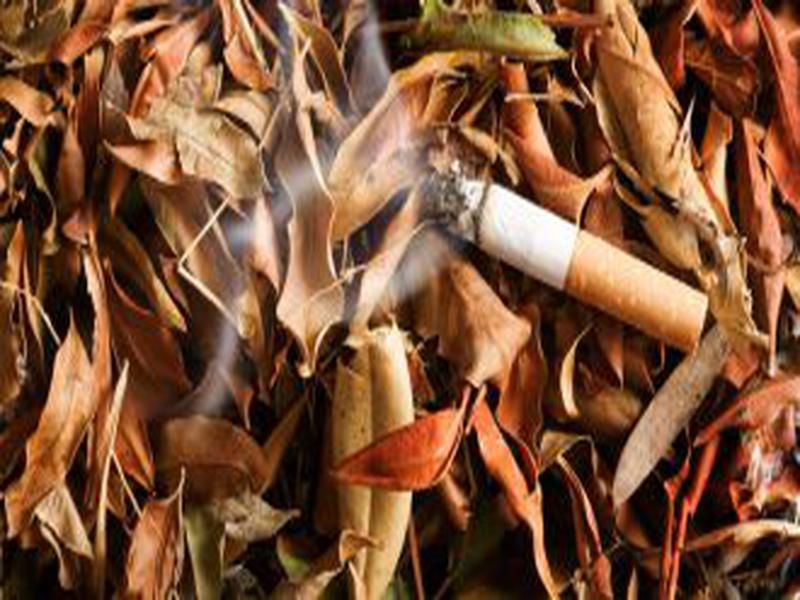burned_cigarette: (424, 169, 712, 357)
leaf: (602, 325, 743, 518), (326, 328, 425, 596), (271, 41, 349, 379), (1, 305, 103, 542), (324, 391, 467, 494), (151, 92, 277, 206), (423, 259, 533, 388)
